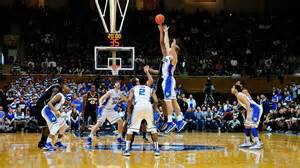basketball: (153, 13, 165, 24)
